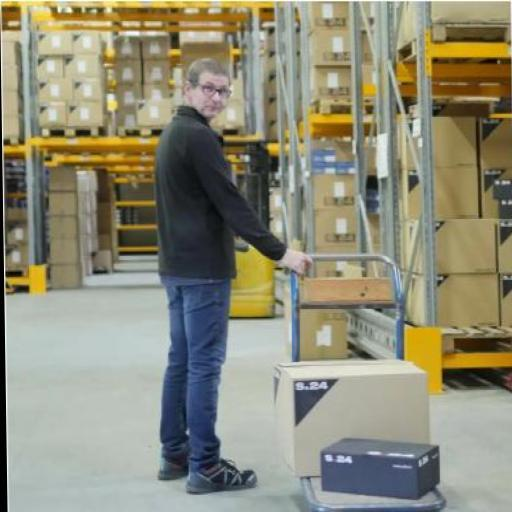safety_boots: (186, 463, 267, 498), (156, 455, 185, 488)
